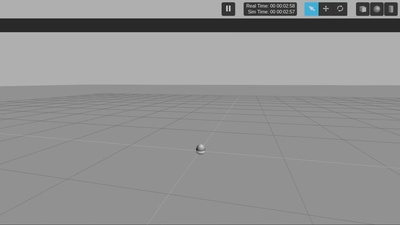mira_robot: (196, 144, 205, 153)
